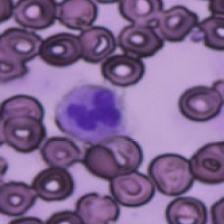N: (53, 83, 128, 145)
